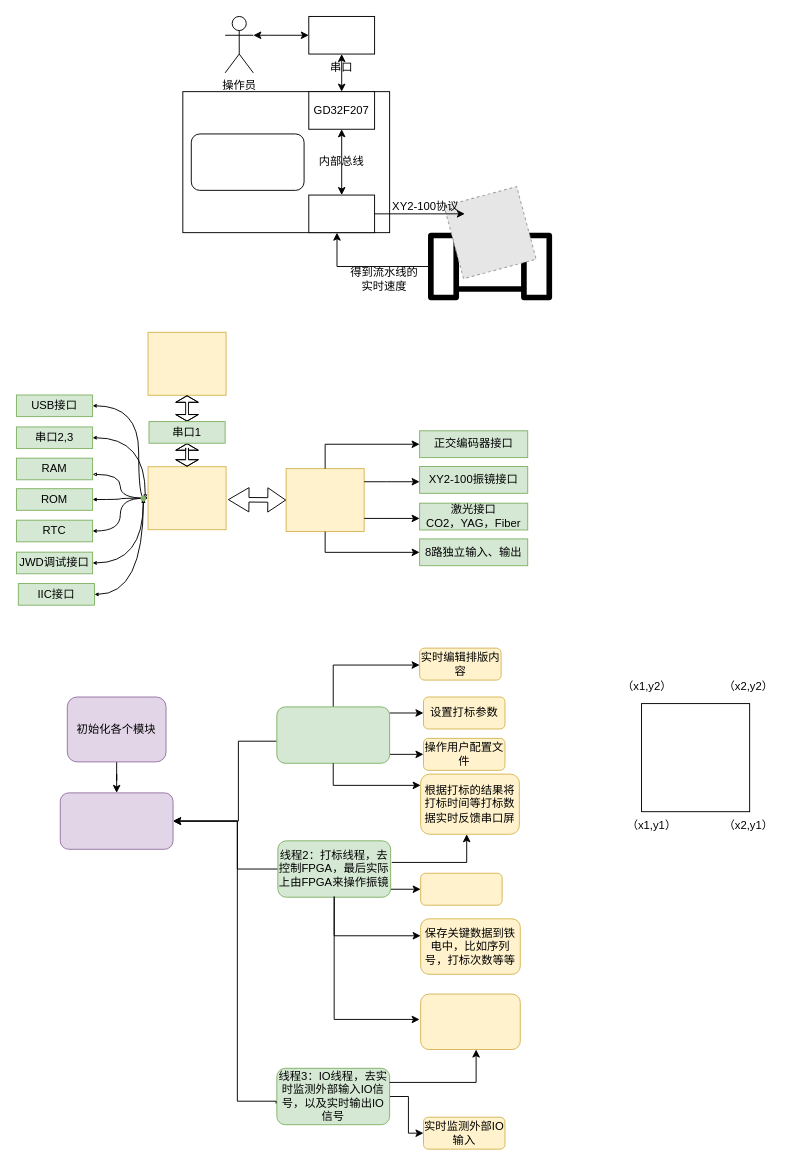
Some shapes in this 793 by 1166 pixel diagram are drawn without their labels. Grey dashed boxes stand in for pictures. Each missing label, with the centre of its shape:
FPGA GW2A-LV18: pixel 324 500
GW2A-LV18: pixel 341 213
MCU GD32F207: pixel 186 498
TJC触摸屏: pixel 186 363
发送打标数据给振镜: pixel 461 888
启动FreeRTOS: pixel 116 820
嵌入式打标控制系统: pixel 247 161
根据打标情况去输出IO，比如异常打标信号，打标完成信号等等: pixel 470 1021
淘晶驰串口屏: pixel 341 35
线程1：和串口屏进行交互: pixel 333 734
（x,y）: pixel 695 757
